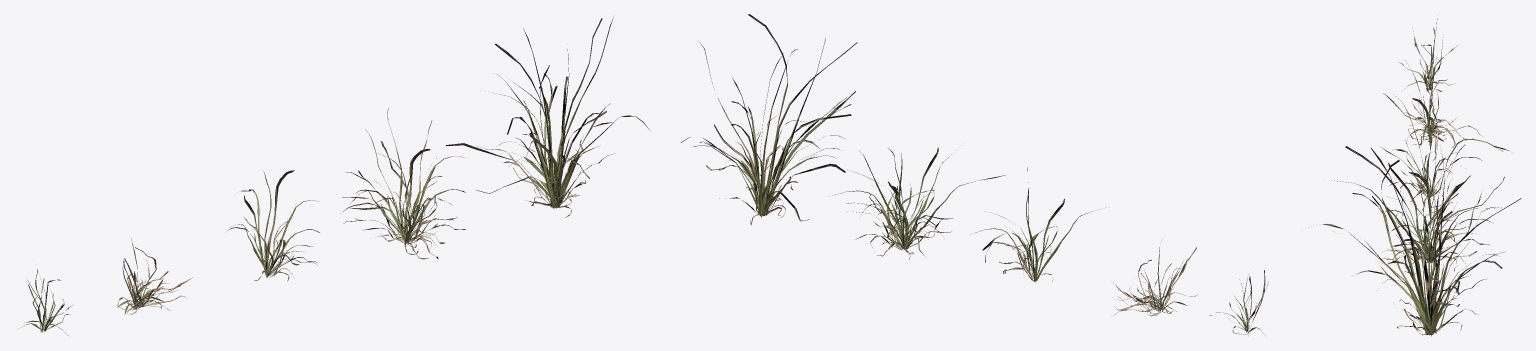
The model's file is grass_medium_02.glb.
3 views of the same model, side by side, from view 1: azimuth 30°, elevation 25°; view 2: azimuth 150°, elevation 25°; view 3: azimuth 270°, elevation 25° (orthographic). The views are drawn at different scales.
Size of the model in its own units: 1.31 by 0.4053 by 0.4326.
1 material, 1 textured.
